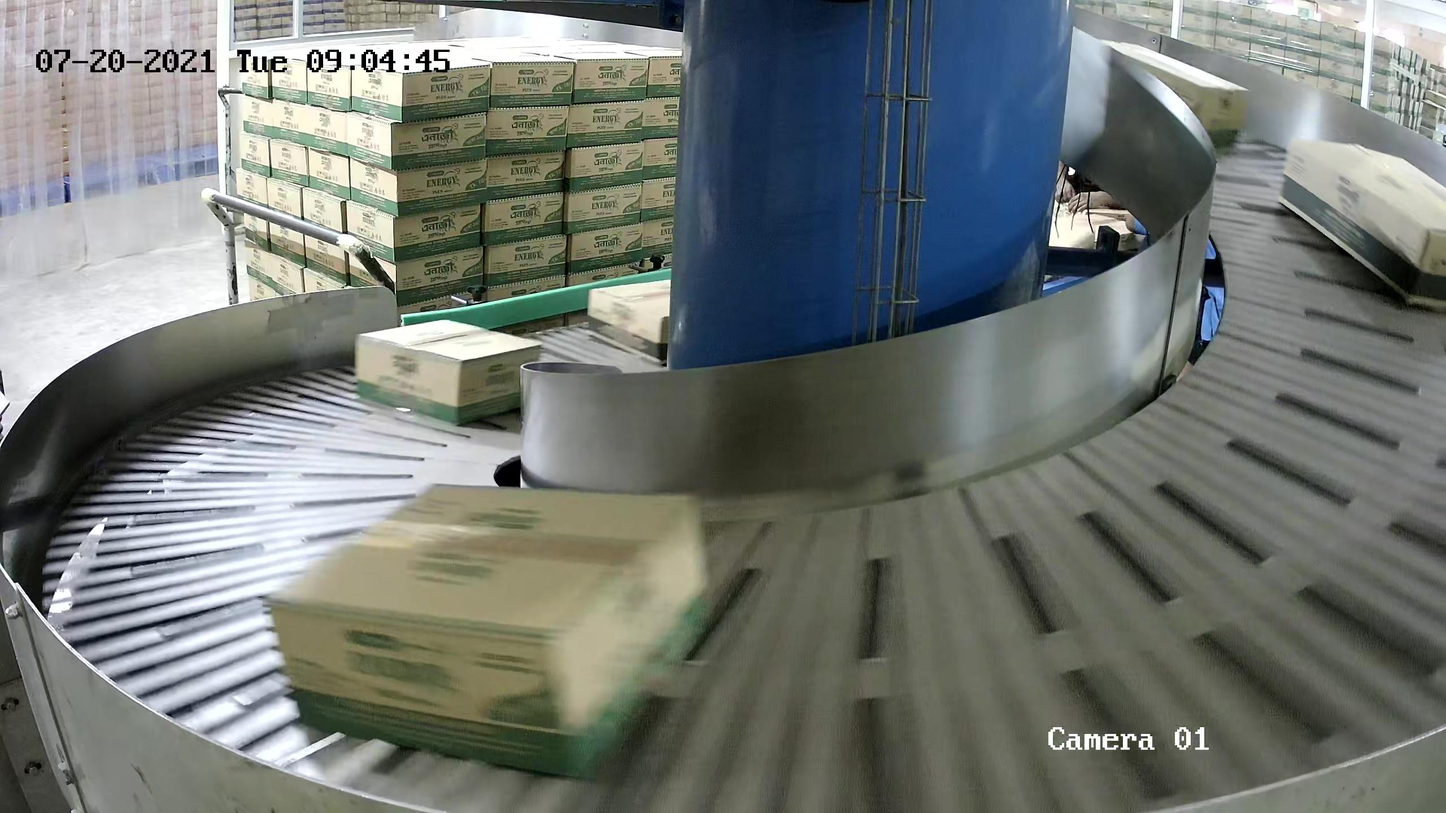Box: (262, 476, 715, 781), (1276, 135, 1446, 312), (353, 317, 544, 426), (1099, 37, 1251, 150), (586, 278, 670, 367)
